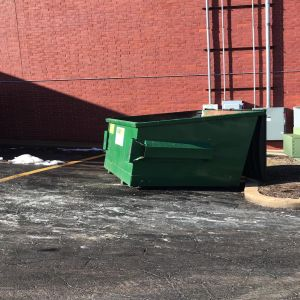Dumpster: (104, 106, 271, 197)
